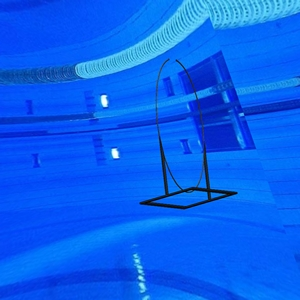circle: (138, 58, 239, 211)
